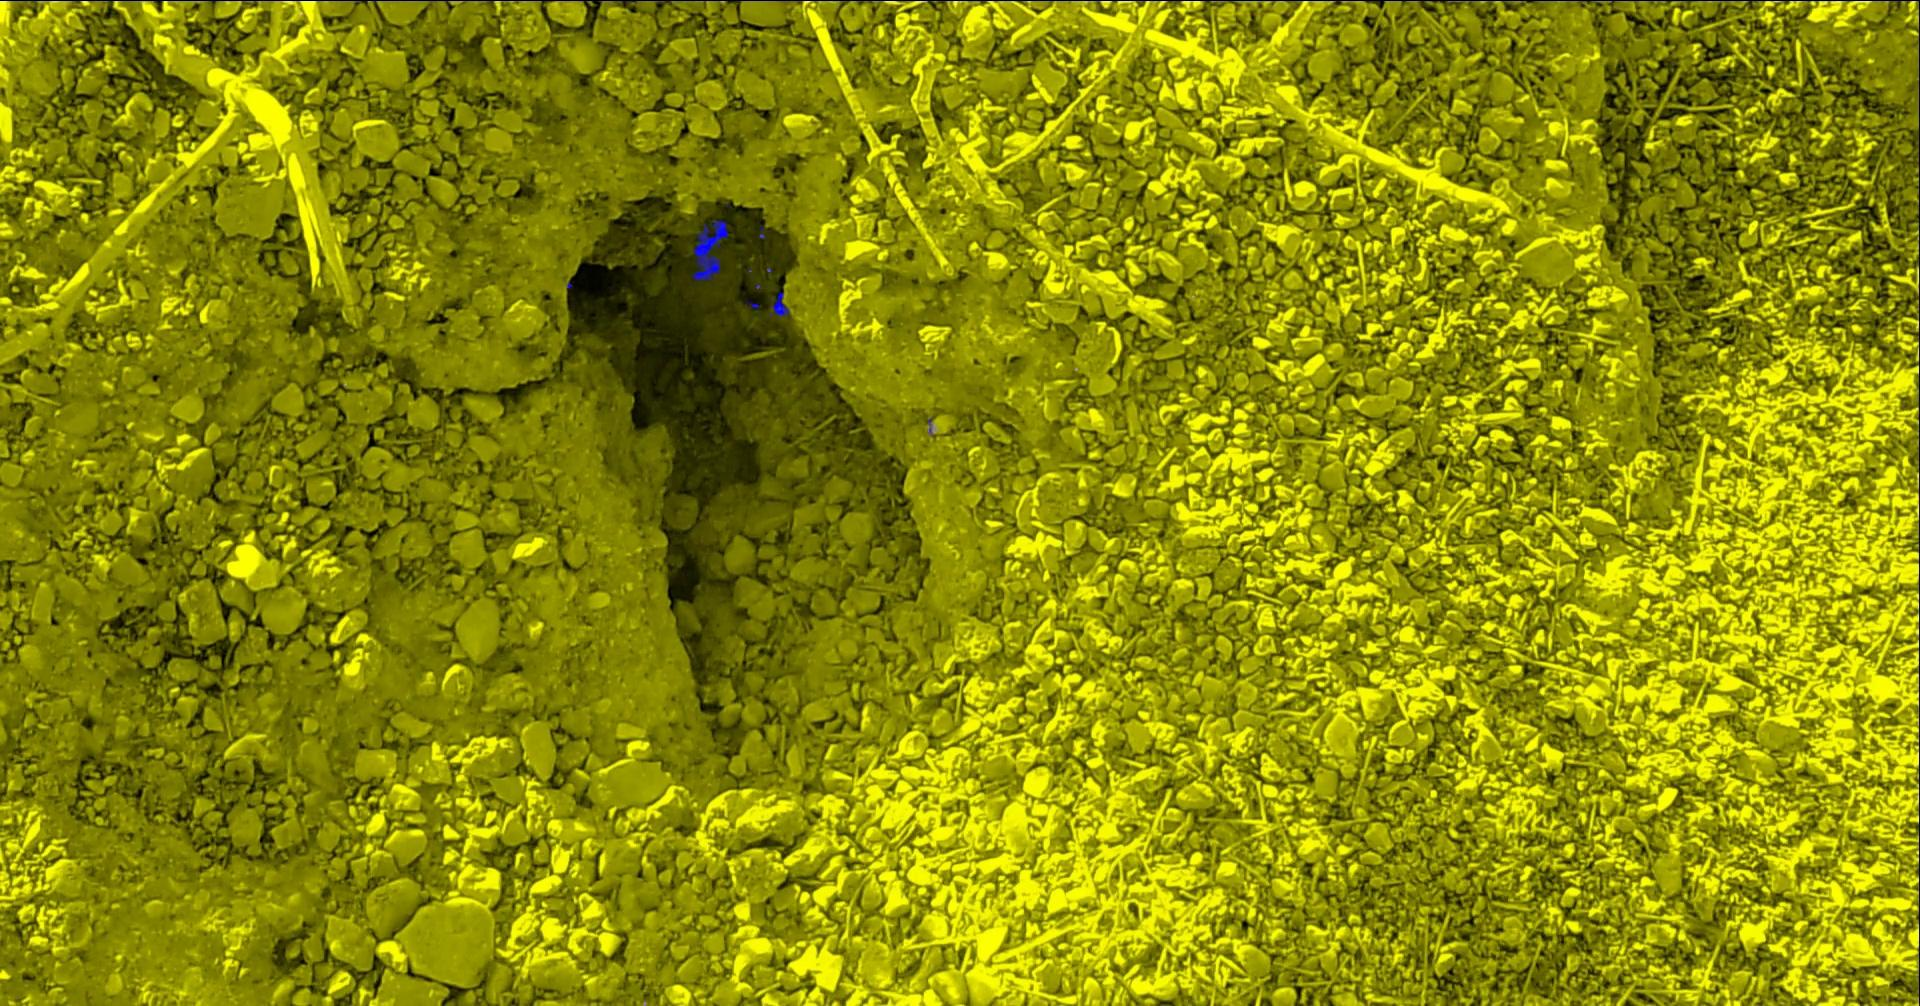ant: (767, 290, 790, 316)
